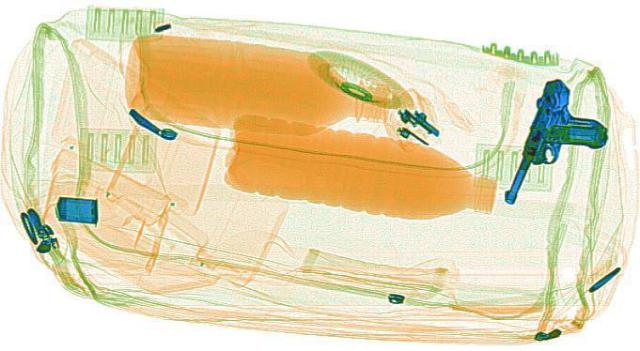Gun: (493, 75, 627, 208)
